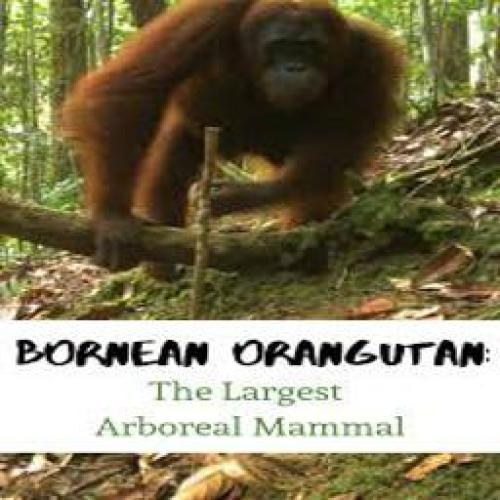orangutan-endangered: (62, 0, 407, 271)
